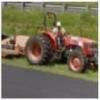tractors: (26, 24, 97, 74)
